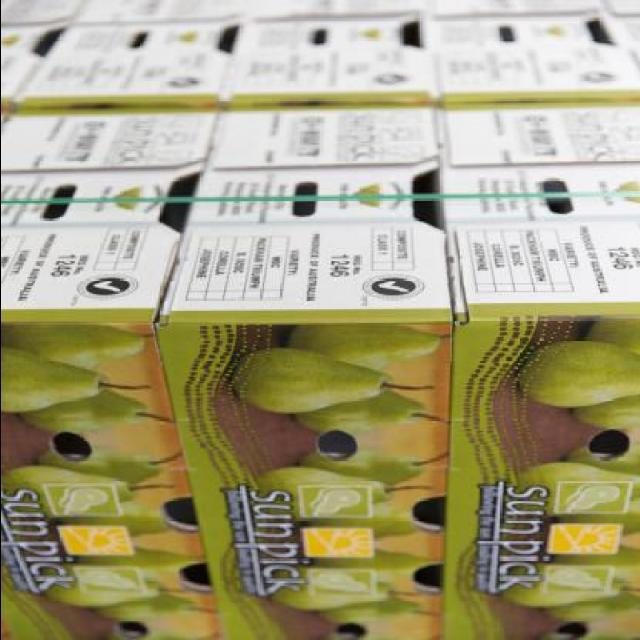Pear: (230, 349, 396, 413), (1, 463, 147, 522), (517, 340, 640, 408), (0, 321, 148, 377), (289, 325, 443, 373), (516, 459, 640, 518), (0, 348, 109, 414), (290, 388, 432, 436), (41, 562, 172, 610), (258, 567, 400, 611), (21, 393, 153, 436), (498, 564, 628, 607), (43, 447, 172, 490), (294, 452, 426, 494), (302, 504, 426, 544), (303, 550, 440, 584), (75, 546, 199, 582), (66, 505, 172, 541), (549, 544, 640, 584), (545, 587, 640, 624), (95, 594, 198, 628), (314, 597, 429, 625), (551, 506, 640, 540), (565, 443, 640, 480), (572, 394, 640, 432), (582, 316, 640, 357)
